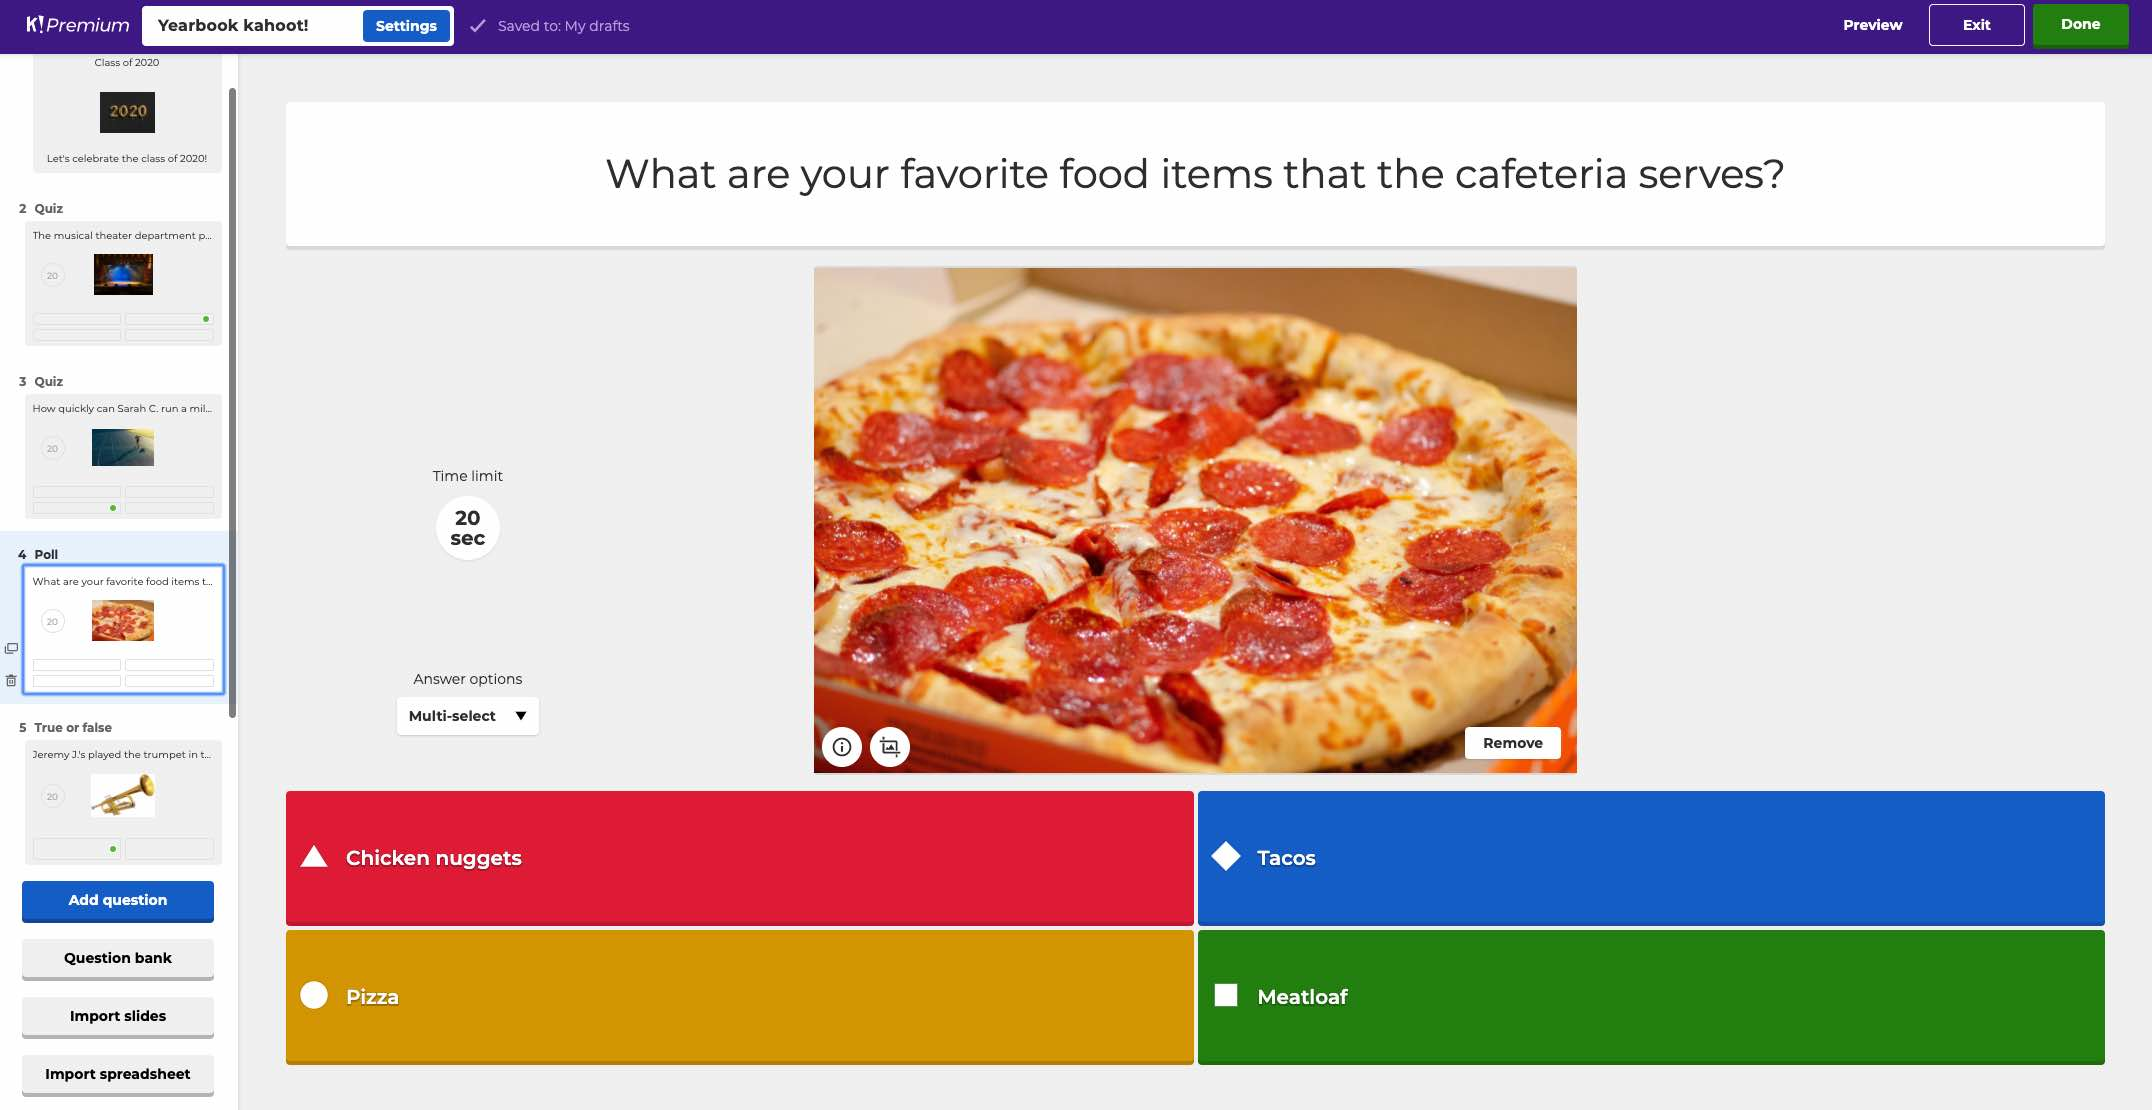answer_blue: (1208, 796, 2102, 923)
answer_green: (1198, 931, 2105, 1063)
answer_red: (290, 796, 1193, 918)
answer_yellow: (290, 931, 1193, 1063)
question_box: (290, 108, 2109, 241)
